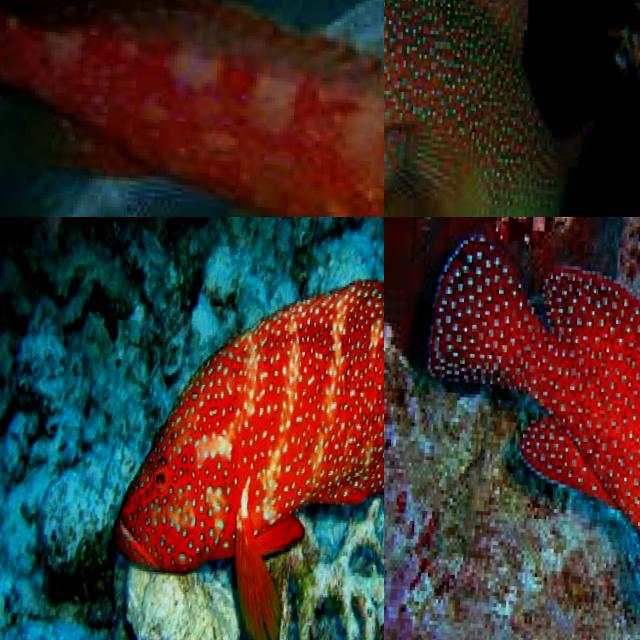Leopard coral grouper: (102, 240, 384, 640), (384, 217, 640, 640), (0, 0, 384, 217), (384, 0, 620, 217)
